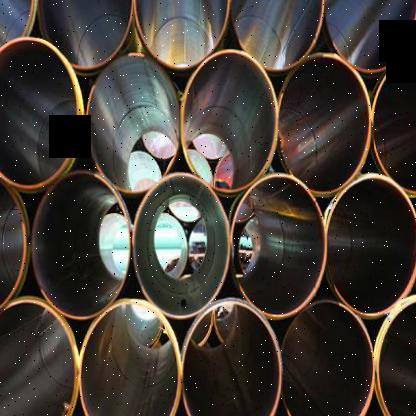pipe: (31, 172, 131, 319), (133, 173, 231, 319), (180, 48, 276, 194), (229, 174, 327, 317), (86, 51, 180, 194), (277, 55, 373, 193), (326, 173, 416, 316), (0, 37, 81, 191), (78, 299, 182, 416), (181, 298, 282, 416), (281, 299, 376, 416), (0, 298, 79, 416), (229, 0, 325, 71), (133, 0, 230, 70), (37, 0, 133, 69), (324, 0, 416, 72), (372, 52, 416, 196), (0, 173, 33, 316)
